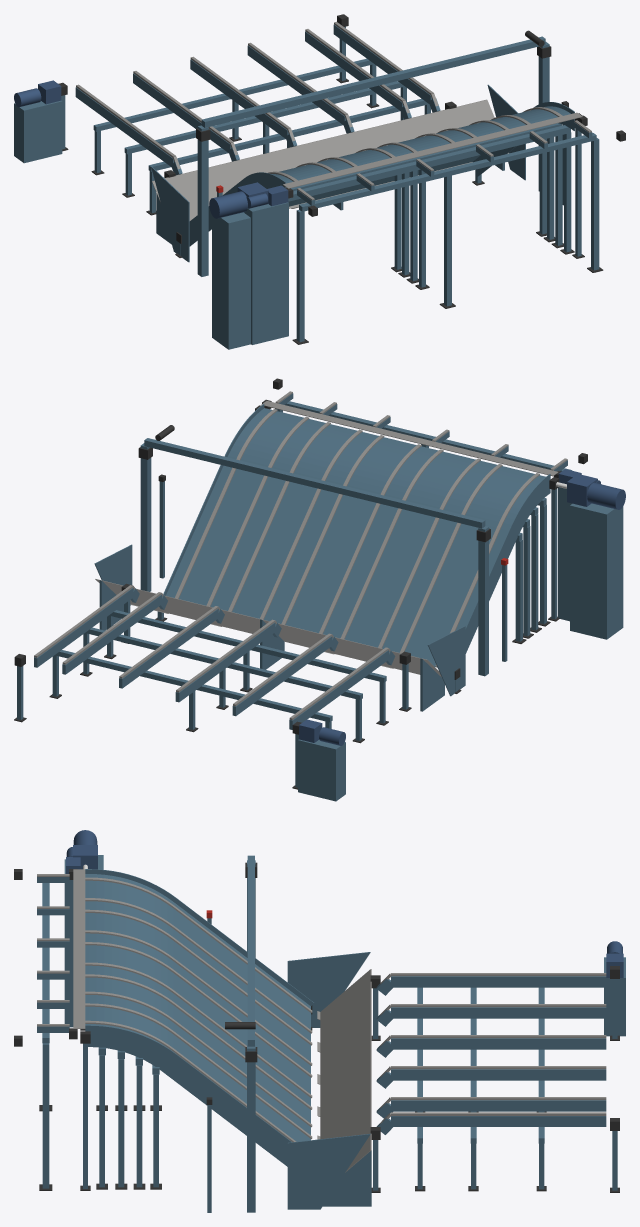
The model's file is board_line_frame.glb.
3 renders of one model, top to bottom at view 1: azimuth 30°, elevation 25°; view 2: azimuth 150°, elevation 25°; view 3: azimuth 270°, elevation 25°, orthographic. The views are drawn at different scales.
Visible parts, largest first — view 1: BL_FrameMesh; view 2: BL_FrameMesh; view 3: BL_FrameMesh.
Part boxes in pixels (x1,y1,x2,y2): BL_FrameMesh: (14, 14, 625, 349); BL_FrameMesh: (14, 378, 625, 801); BL_FrameMesh: (14, 830, 625, 1212).
Bounding box in the file's own units: 7.14 × 2.72 × 8.35.
